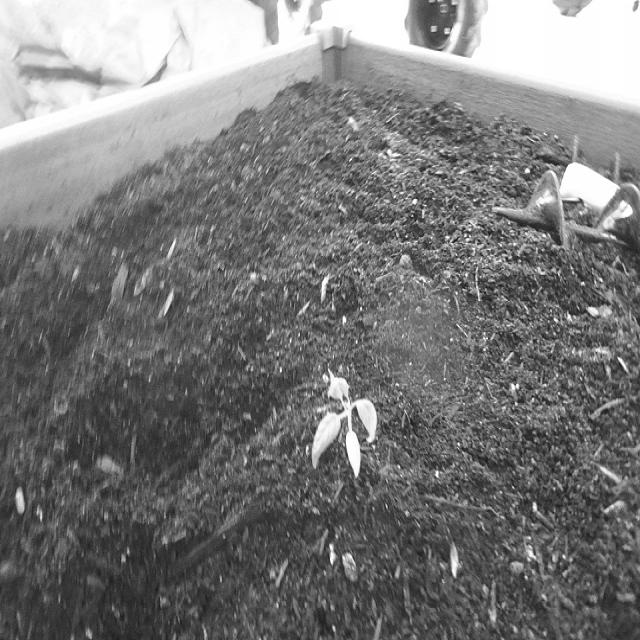Healthy: (306, 362, 384, 482)
